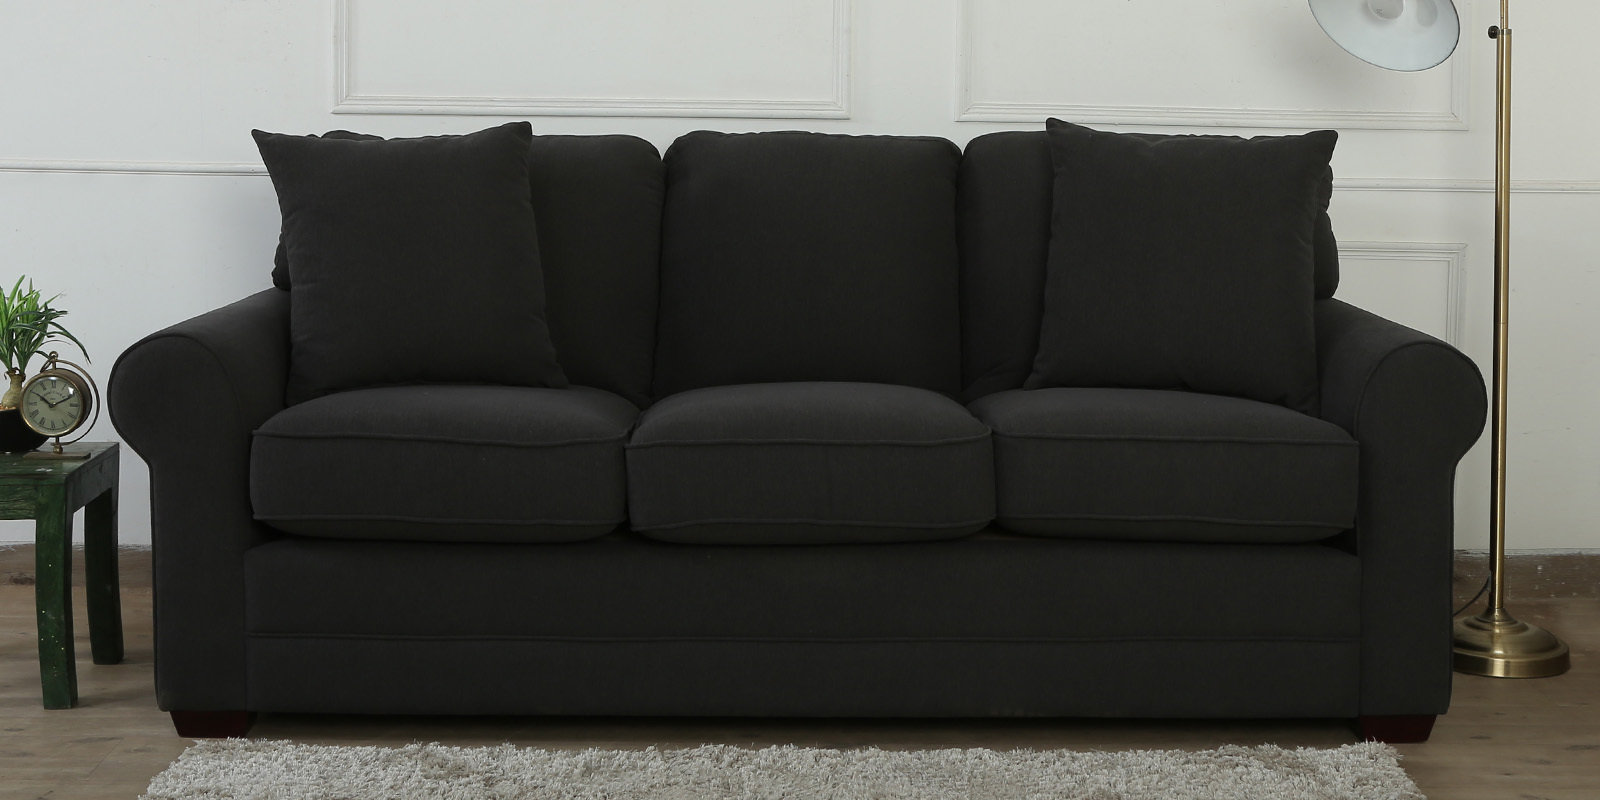Madeira Three Seater Sofa in Beige Colour by CasaCraft: (103, 118, 1489, 742)
